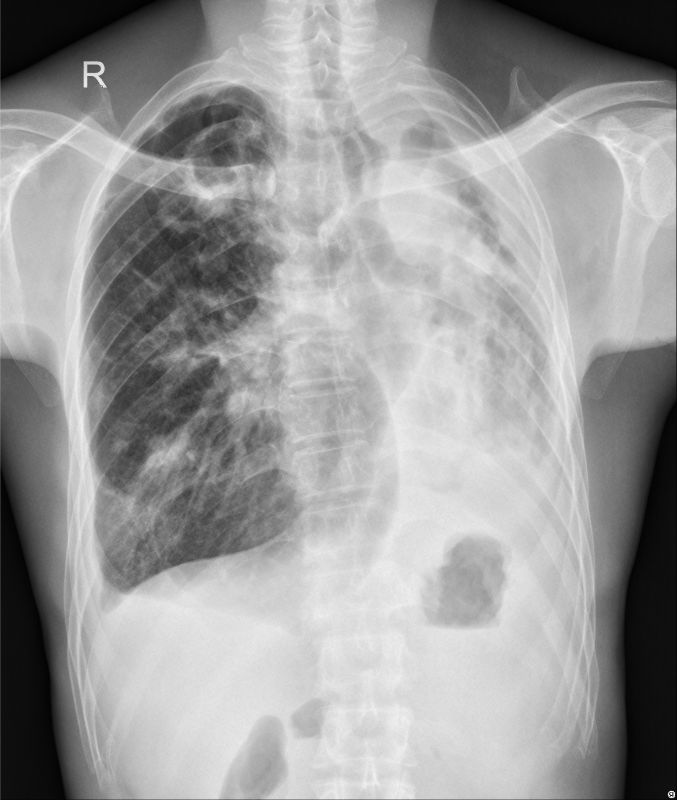Tuberculosis (TB): (381, 126, 507, 289), (100, 412, 214, 554), (153, 115, 257, 243)
